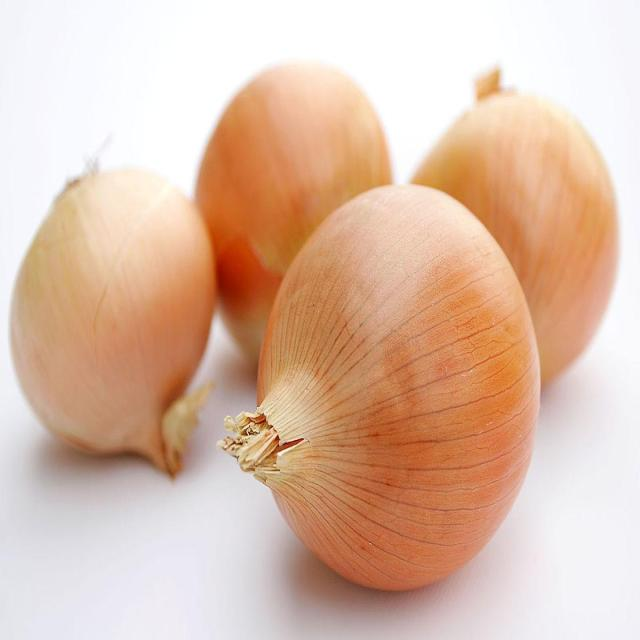Onion: (217, 184, 540, 590), (408, 63, 618, 394), (8, 154, 217, 479), (197, 63, 393, 364)
